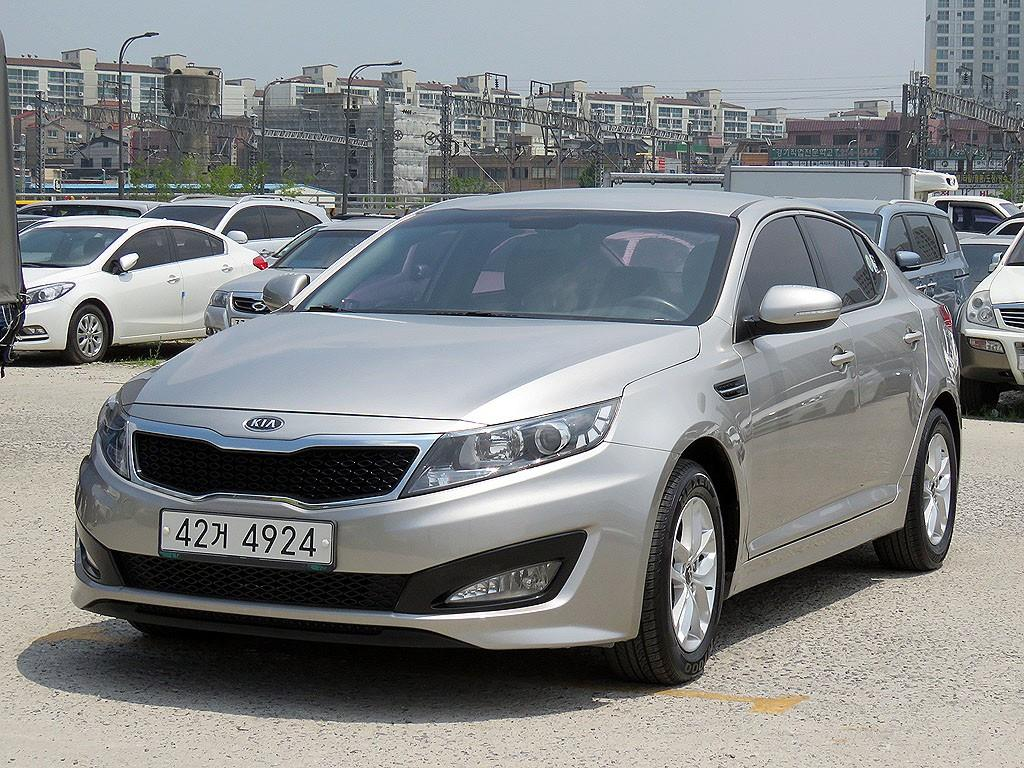plate: (161, 511, 333, 563)
